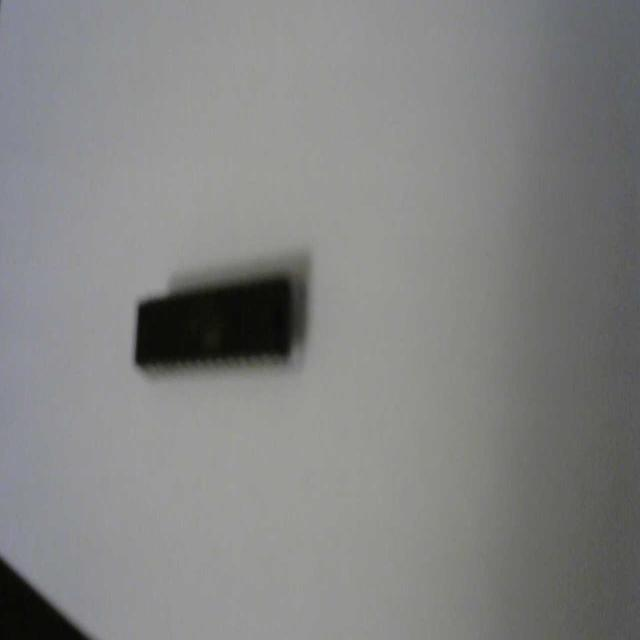atmega: (130, 262, 306, 380)
